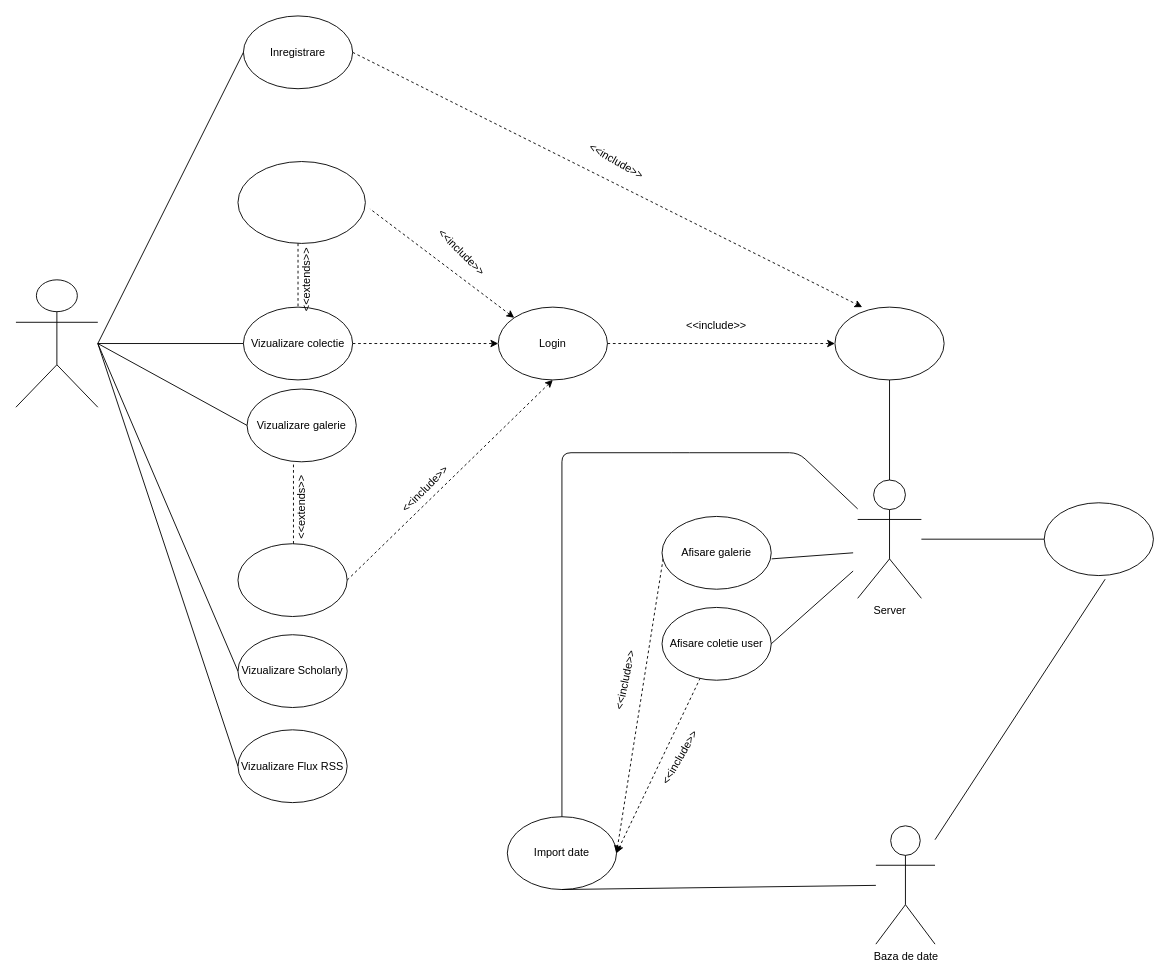
This 1169x979 diagram has some shape labels left out. The shapes that lost their labels are listed below. From the top down, each one's centre as x and y in pixels, then its label:
At point (301, 202): "Elimare moneda din colectie".
At point (56, 343): "Utilizator".
At point (889, 343): "Error Checking".
At point (1098, 539): "Export date".
At point (292, 580): "Adaugare moneda".
